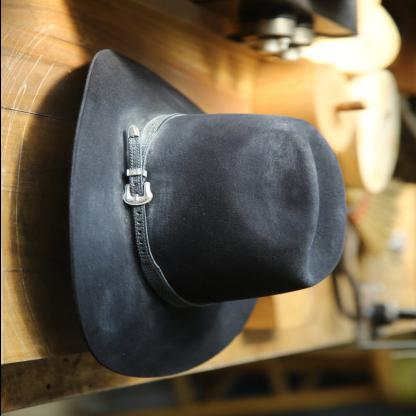hat: (54, 40, 352, 382)
